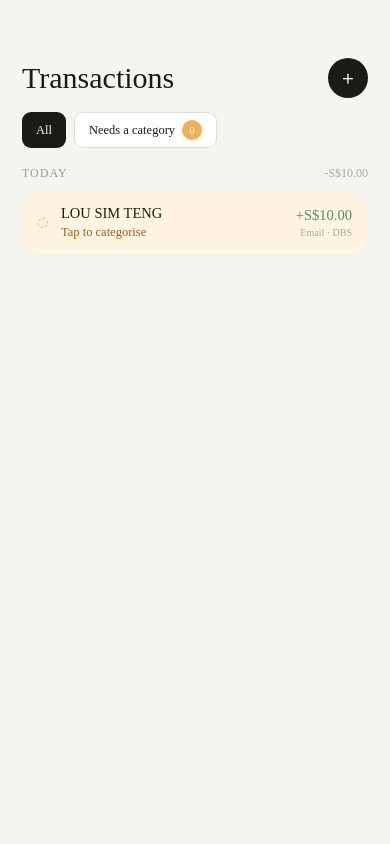
Test: the detail sheet for a credit transaction shows credit categories, not expense ones
Click the element with test id "transaction-1" at (195, 222), box x1=22 y1=191 x2=368 y2=254
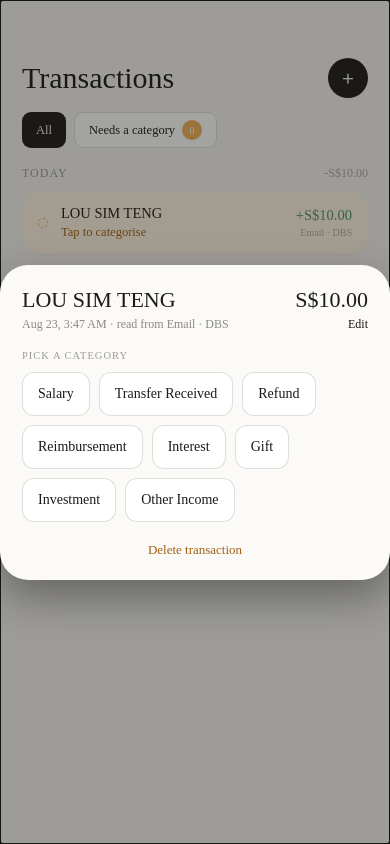
Expected: the element with test id "cat-chip-Salary" is shown, x1=22 y1=372 x2=90 y2=416
Expected: the element with test id "cat-chip-Transfer Received" is shown, x1=99 y1=372 x2=233 y2=416
